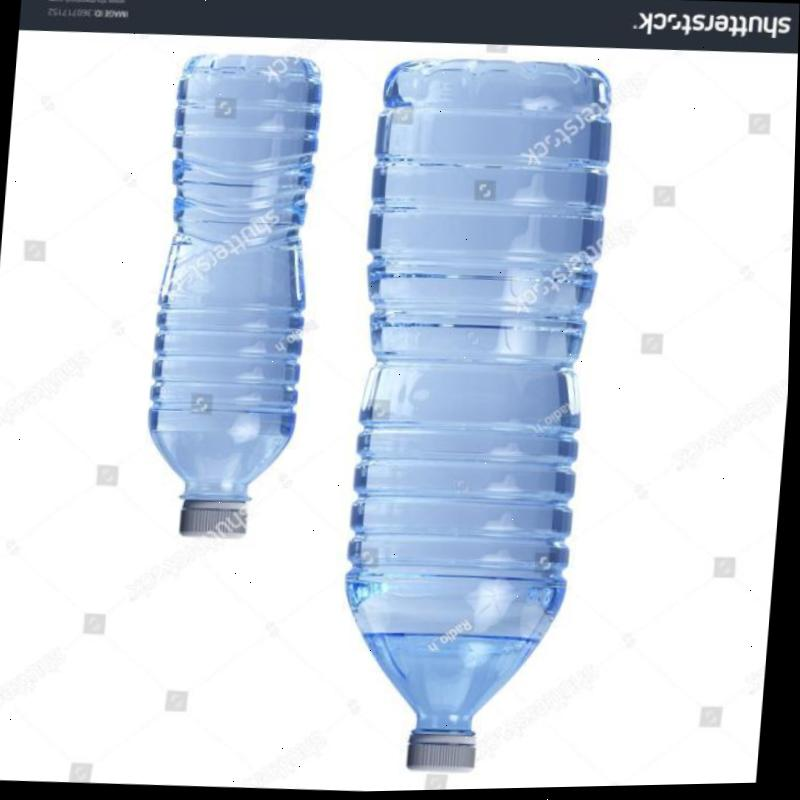botella: (333, 52, 611, 782), (145, 52, 326, 543)
